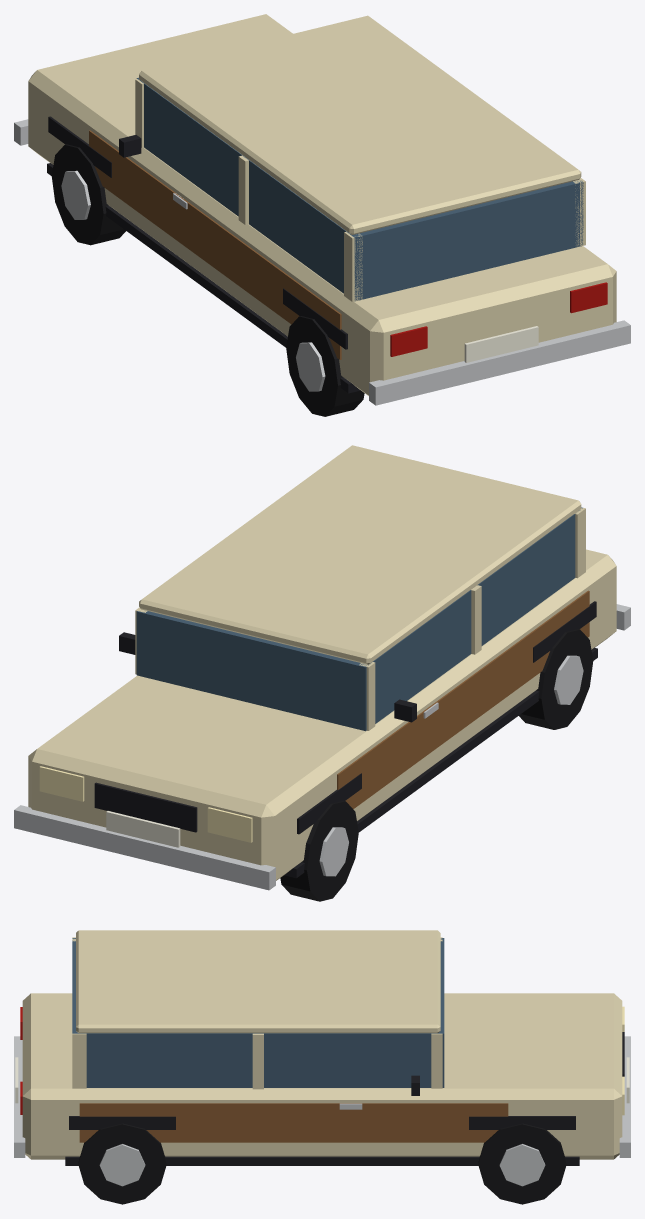
File: car.estate.glb
3 views of the same model, one above another, from view 1: azimuth 30°, elevation 25°; view 2: azimuth 150°, elevation 25°; view 3: azimuth 270°, elevation 25° (orthographic). The views are drawn at different scales.
Parts seen in each view (by area): view 1: roof, body, glass, wood-1, bumper-back, wheel-11, wheel-1-1, sill, plate-back, hub-11, hub-1-1, pillar-c-1 (+5 smaller); view 2: roof, body, glass, wood-1, bumper-front, wheel-1-1, wheel-11, grille, sill, plate-front, headlamp-1, headlamp1 (+7 smaller); view 3: body, roof, glass, wood1, wheel1-1, wheel11, sill, hub1-1, hub11, arch1-1, arch11, bumper-back (+4 smaller).
Boxes of the visible parts, box(x1,y1,x2,y2) form: roof: box(139, 15, 581, 234); body: box(28, 14, 616, 395); glass: box(136, 77, 583, 301); wood-1: box(89, 130, 341, 359); bumper-back: box(369, 320, 630, 405); wheel-11: box(286, 316, 364, 416); wheel-1-1: box(51, 144, 125, 245); sill: box(47, 163, 360, 393); plate-back: box(464, 326, 538, 362); hub-11: box(296, 342, 325, 391); hub-1-1: box(61, 170, 90, 219); pillar-c-1: box(344, 231, 362, 301); roof: box(139, 445, 581, 664); body: box(28, 549, 616, 880); glass: box(136, 507, 582, 731); wood-1: box(337, 590, 589, 808); bumper-front: box(14, 805, 275, 890); wheel-1-1: box(280, 800, 358, 901); wheel-11: box(519, 629, 593, 729); grille: box(94, 782, 197, 832); sill: box(284, 647, 597, 878); plate-front: box(106, 811, 180, 847); headlamp-1: box(207, 807, 252, 842); headlamp1: box(39, 766, 84, 801); body: box(22, 993, 622, 1159); roof: box(76, 930, 440, 1033); glass: box(72, 938, 444, 1087); wood1: box(79, 1103, 508, 1142); wheel1-1: box(478, 1123, 566, 1204); wheel11: box(78, 1123, 166, 1204); sill: box(65, 1156, 579, 1165); hub1-1: box(499, 1144, 545, 1186); hub11: box(99, 1144, 145, 1186); arch1-1: box(469, 1116, 575, 1129); arch11: box(69, 1116, 175, 1129); bumper-back: box(14, 1036, 25, 1157).
Size of the model in its own units: 2.02 by 1.34 by 4.32.
